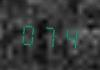four: (59, 20, 78, 52)
seven: (39, 19, 58, 50)
zero: (18, 17, 37, 48)
